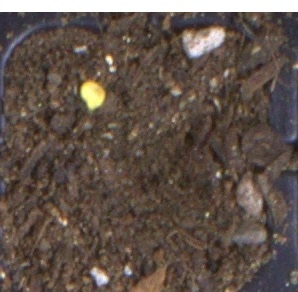chilli seed: (79, 80, 106, 112)
